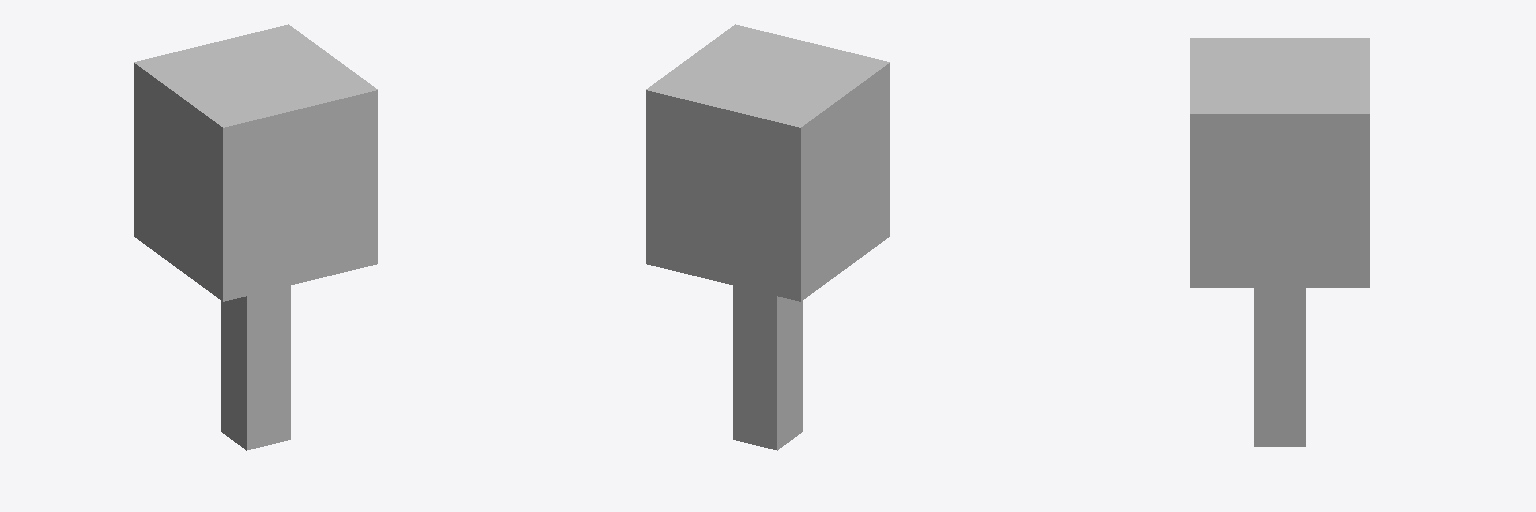
File: Tree1.obj
3 renders of one model, left to right at view 1: azimuth 30°, elevation 25°; view 2: azimuth 150°, elevation 25°; view 3: azimuth 270°, elevation 25°, orthographic.
Parts seen in each view (by area): view 1: object 1; view 2: object 1; view 3: object 1.
Boxes of the visible parts, x1,y1,x2,y2 form: object 1: [134, 24, 377, 450]; object 1: [646, 24, 889, 450]; object 1: [1190, 38, 1369, 446].
Size of the model in its own units: 1.4 by 3.1 by 1.4.